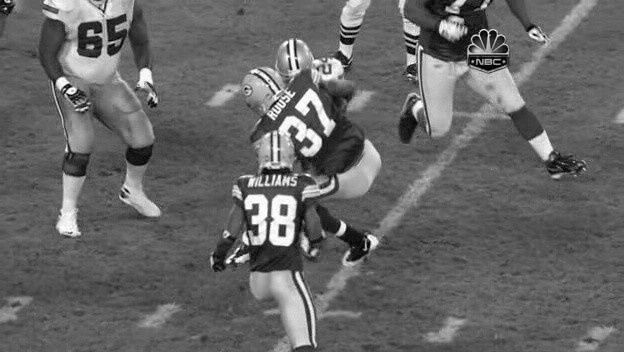person: (278, 40, 310, 81), (277, 40, 309, 81), (279, 40, 311, 81), (278, 39, 310, 80), (278, 41, 310, 82)
target_negative: (21, 251, 538, 325), (192, 222, 547, 308), (268, 233, 503, 302), (567, 191, 618, 307), (296, 331, 591, 345), (343, 78, 344, 253)
